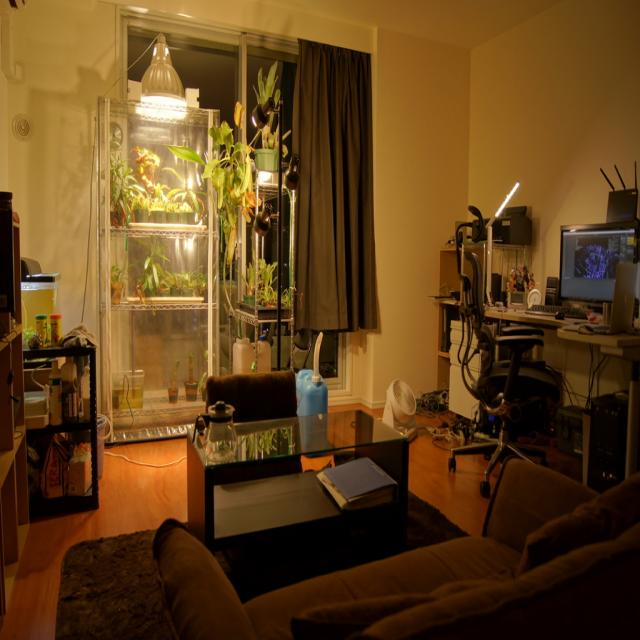chair: (456, 247, 563, 494)
desk: (203, 433, 422, 567)
tv: (559, 223, 637, 303)
